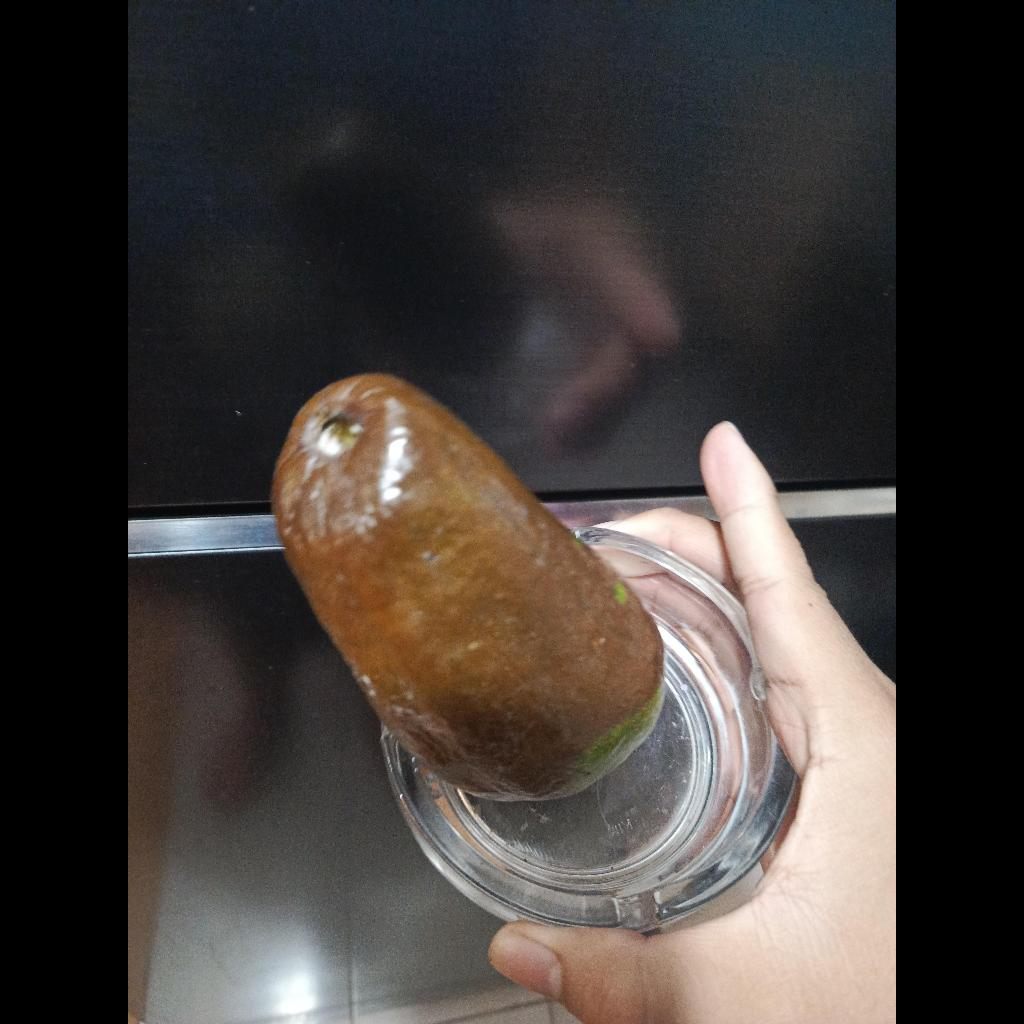pudricion_peduncular: (272, 375, 663, 800)
